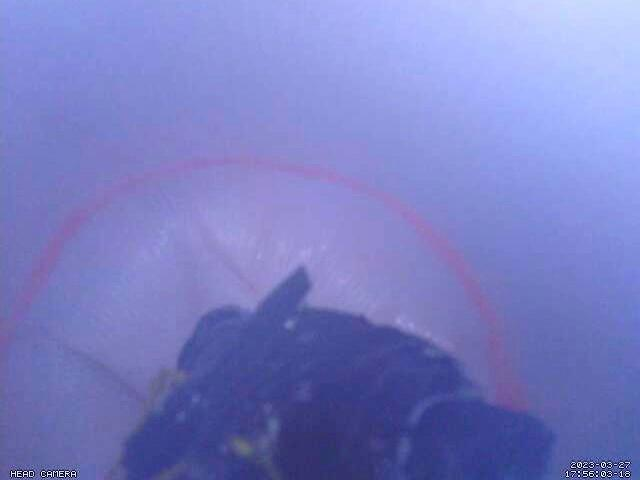head: (0, 151, 530, 412)
